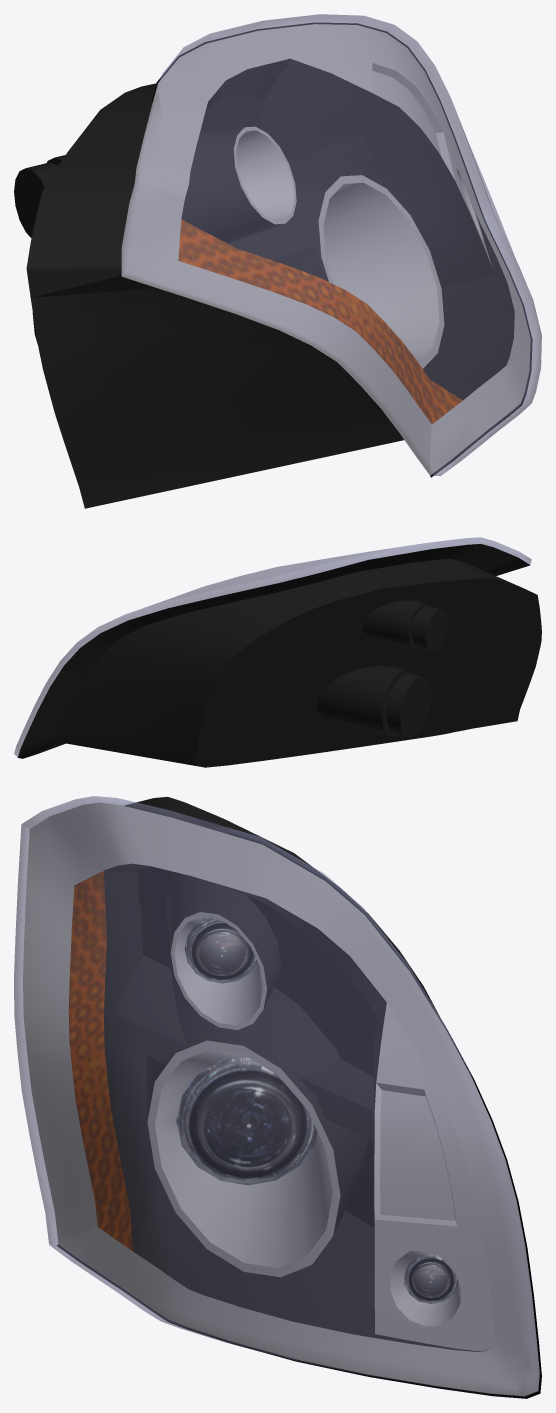
3 renders of one model, top to bottom at view 1: azimuth 30°, elevation 25°; view 2: azimuth 150°, elevation 25°; view 3: azimuth 270°, elevation 25°, orthographic. The views are drawn at different scales.
Visible parts, largest first — view 1: Z166_061B_R_Z166_061B_R_5_DTaSI, Z166_061B_R_Z166_061B_R_7_D, Z166_061B_R_Z166_061B_R_6_DaS, Z166_061B_R_Z166_061B_R_4_N, Z166_061B_R_Z166_061B_R_8_D; view 2: Z166_061B_R_Z166_061B_R_7_D, Z166_061B_R_Z166_061B_R_5_DTaSI; view 3: Z166_061B_R_Z166_061B_R_5_DTaSI, Z166_061B_R_Z166_061B_R_6_DaS, Z166_061B_R_Z166_061B_R_7_D, Z166_061B_R_Z166_061B_R_2_N, Z166_061B_R_Z166_061B_R_4_N, Z166_061B_R_Z166_061B_R_3_N, Z166_061B_R_Z166_061B_R_8_D, Z166_061B_R_1_N_Z166_061B_R.
Part boxes in pixels (bbox=[...]): Z166_061B_R_Z166_061B_R_5_DTaSI: bbox=[122, 14, 541, 475]; Z166_061B_R_Z166_061B_R_7_D: bbox=[14, 58, 514, 508]; Z166_061B_R_Z166_061B_R_6_DaS: bbox=[121, 24, 530, 475]; Z166_061B_R_Z166_061B_R_4_N: bbox=[178, 219, 462, 424]; Z166_061B_R_Z166_061B_R_8_D: bbox=[151, 22, 532, 477]; Z166_061B_R_Z166_061B_R_7_D: bbox=[18, 544, 541, 767]; Z166_061B_R_Z166_061B_R_5_DTaSI: bbox=[14, 537, 531, 757]; Z166_061B_R_Z166_061B_R_5_DTaSI: bbox=[14, 796, 539, 1396]; Z166_061B_R_Z166_061B_R_6_DaS: bbox=[23, 802, 539, 1396]; Z166_061B_R_Z166_061B_R_7_D: bbox=[104, 796, 487, 1352]; Z166_061B_R_Z166_061B_R_2_N: bbox=[176, 1056, 317, 1185]; Z166_061B_R_Z166_061B_R_4_N: bbox=[68, 871, 132, 1250]; Z166_061B_R_Z166_061B_R_3_N: bbox=[184, 917, 257, 983]; Z166_061B_R_Z166_061B_R_8_D: bbox=[57, 833, 541, 1398]; Z166_061B_R_1_N_Z166_061B_R: bbox=[404, 1254, 458, 1303].
Size of the model in its own units: 60.27 by 31.18 by 42.56.
